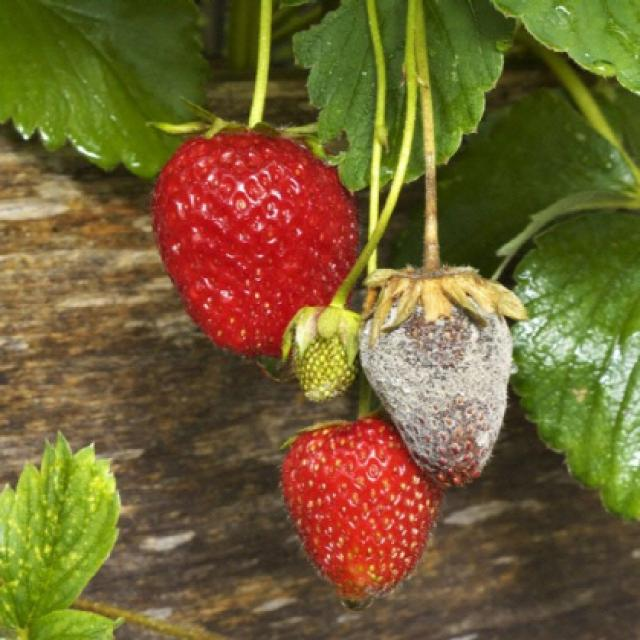Gray Mold: (357, 265, 529, 491)
